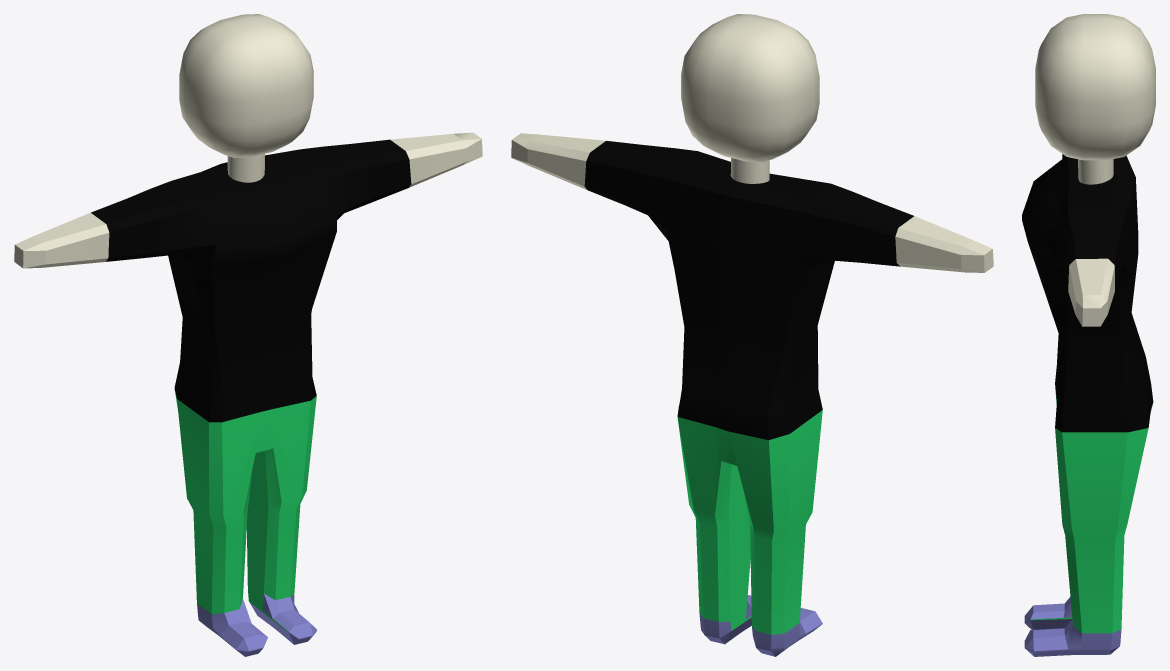
File: colour 2.fbx
The picture shows the model from 3 angles, left to right: view 1: azimuth 30°, elevation 25°; view 2: azimuth 150°, elevation 25°; view 3: azimuth 270°, elevation 25°; orthographic projection. The views are drawn at different scales.
Parts seen in each view (by area): view 1: pCube7; view 2: pCube7; view 3: pCube7.
Boxes of the visible parts, box(x1,y1,x2,y2) form: pCube7: box(14, 14, 482, 656); pCube7: box(511, 14, 993, 656); pCube7: box(1022, 14, 1155, 656).
Size of the model in its own units: 5.68 by 7.12 by 1.4.
